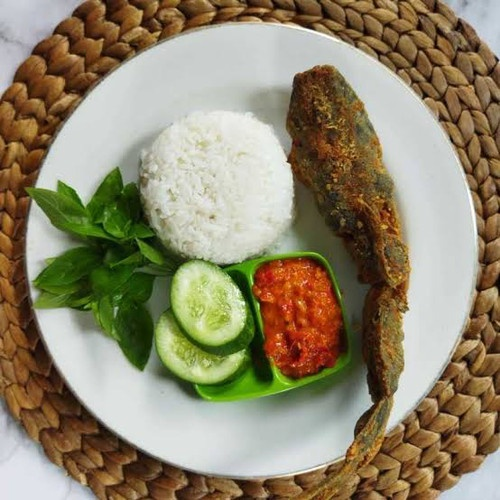pecel_lele: (345, 73, 424, 467)
